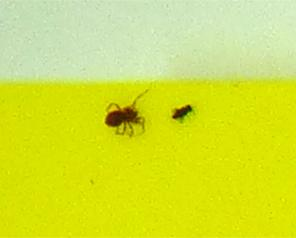Araneae: (100, 100, 148, 138)
Brachycera: (168, 100, 196, 121)
